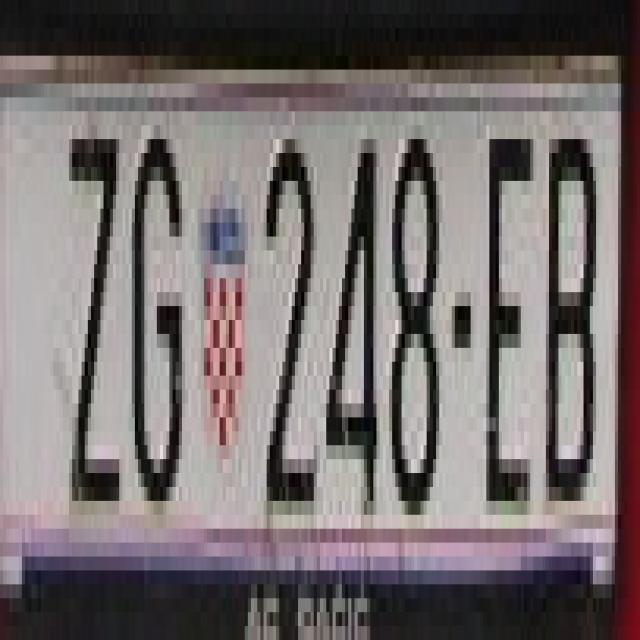2: (260, 111, 314, 487)
4: (323, 125, 383, 529)
8: (383, 125, 445, 529)
B: (543, 97, 602, 501)
E: (477, 97, 536, 529)
G: (132, 139, 182, 515)
Z: (66, 97, 122, 501)
